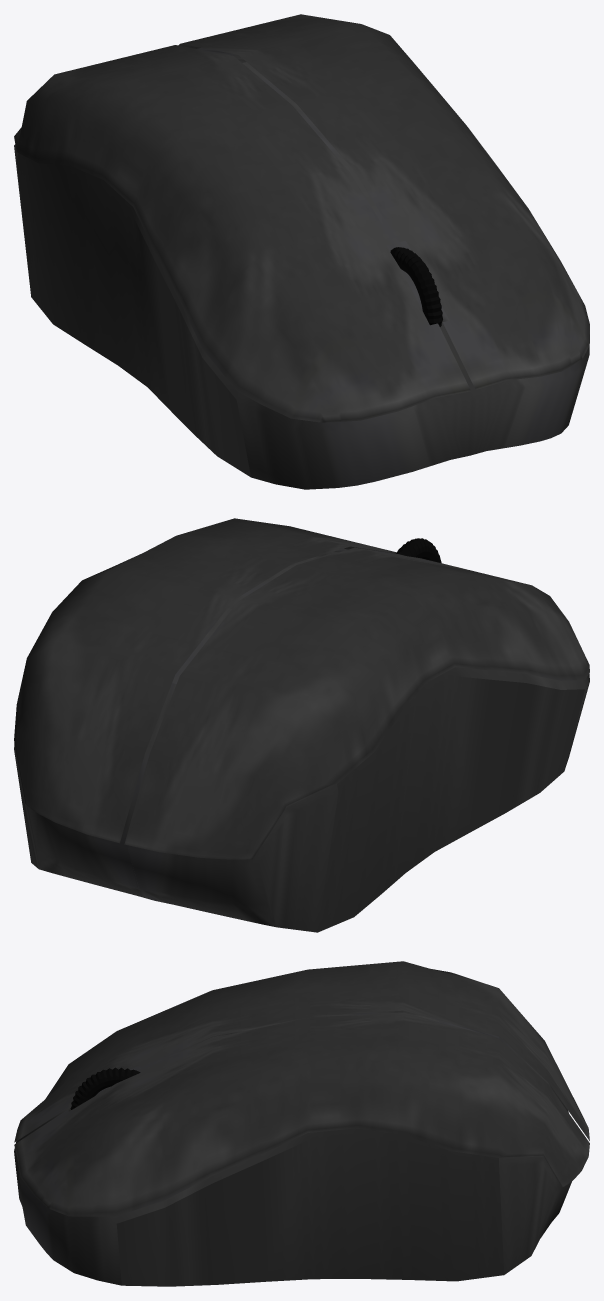
The model's file is Mouse (1).fbx.
3 views of the same model, one above another, from view 1: azimuth 30°, elevation 25°; view 2: azimuth 150°, elevation 25°; view 3: azimuth 270°, elevation 25° (orthographic). The views are drawn at different scales.
Parts seen in each view (by area): view 1: Plane, Plane.001, Torus; view 2: Plane, Plane.001, Torus; view 3: Plane, Plane.001, Torus.
Boxes of the visible parts, box(x1,y1,x2,y2) form: Plane: box(14, 14, 589, 422); Plane.001: box(14, 48, 589, 489); Torus: box(390, 247, 442, 326); Plane: box(14, 518, 589, 859); Plane.001: box(14, 548, 589, 932); Torus: box(395, 538, 441, 563); Plane: box(14, 961, 589, 1216); Plane.001: box(14, 1010, 571, 1286); Torus: box(70, 1067, 140, 1109).
Size of the model in its own units: 308 by 212 by 523.
